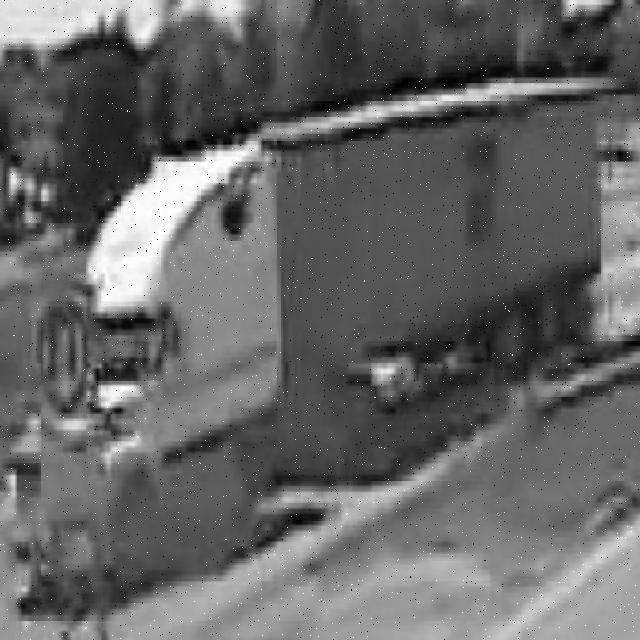Tractor Trailer: (87, 96, 602, 477)
